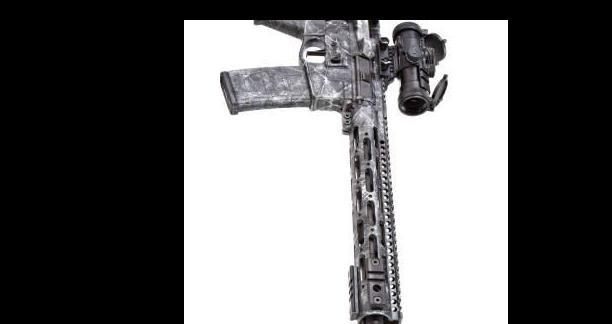larga: (220, 21, 449, 324)
